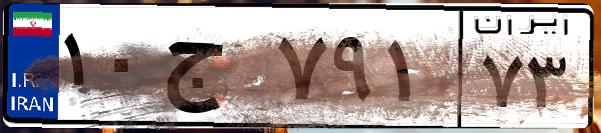0: (110, 28, 158, 98)
1: (385, 28, 445, 110), (57, 26, 110, 100)
3: (525, 38, 570, 115)
7: (270, 28, 330, 110), (475, 38, 525, 113)
9: (330, 28, 385, 110)
ج: (158, 20, 270, 120)
